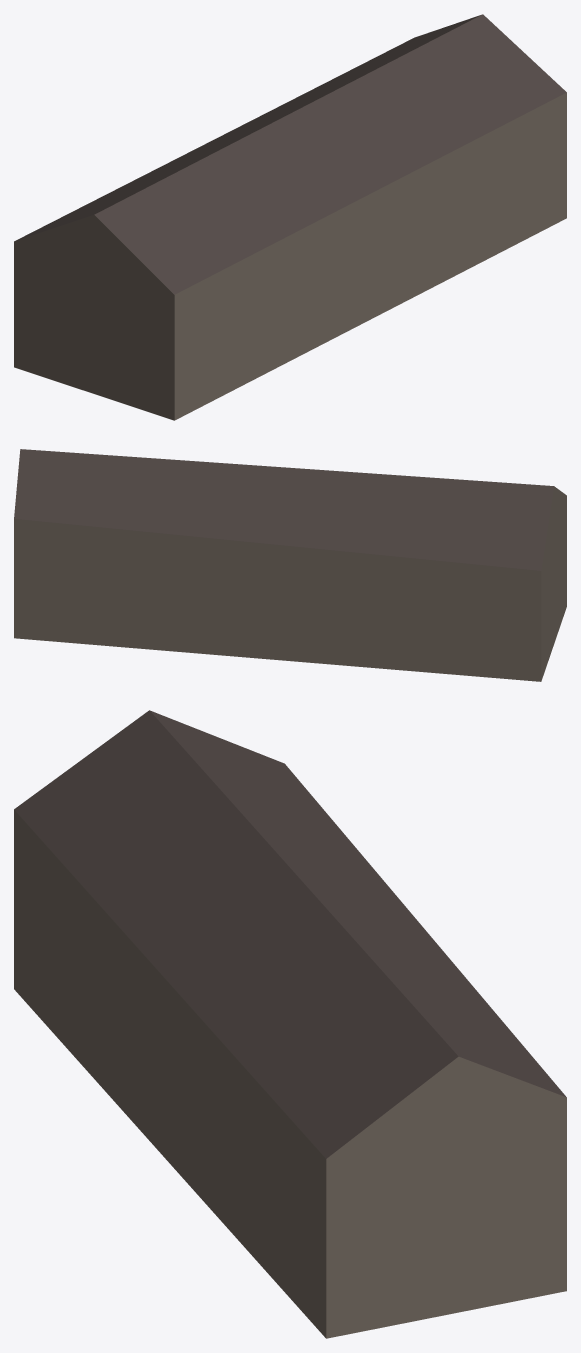
3 views of the same model, one above another, from view 1: azimuth 30°, elevation 25°; view 2: azimuth 150°, elevation 25°; view 3: azimuth 270°, elevation 25° (orthographic). The views are drawn at different scales.
Visible parts, largest first — view 1: HP-w1516161979; view 2: HP-w1516161979; view 3: HP-w1516161979.
Boxes of the visible parts, box(x1,y1,x2,y2) form: HP-w1516161979: box(14, 14, 566, 420); HP-w1516161979: box(14, 449, 566, 681); HP-w1516161979: box(14, 710, 566, 1338).
Size of the model in its own units: 28.31 by 8.55 by 16.73.
